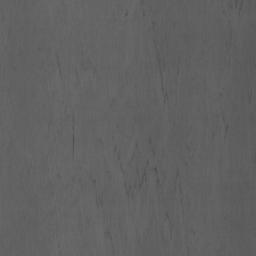Silk spot: (72, 0, 253, 256), (222, 0, 250, 64), (48, 101, 75, 160), (45, 52, 96, 80)
